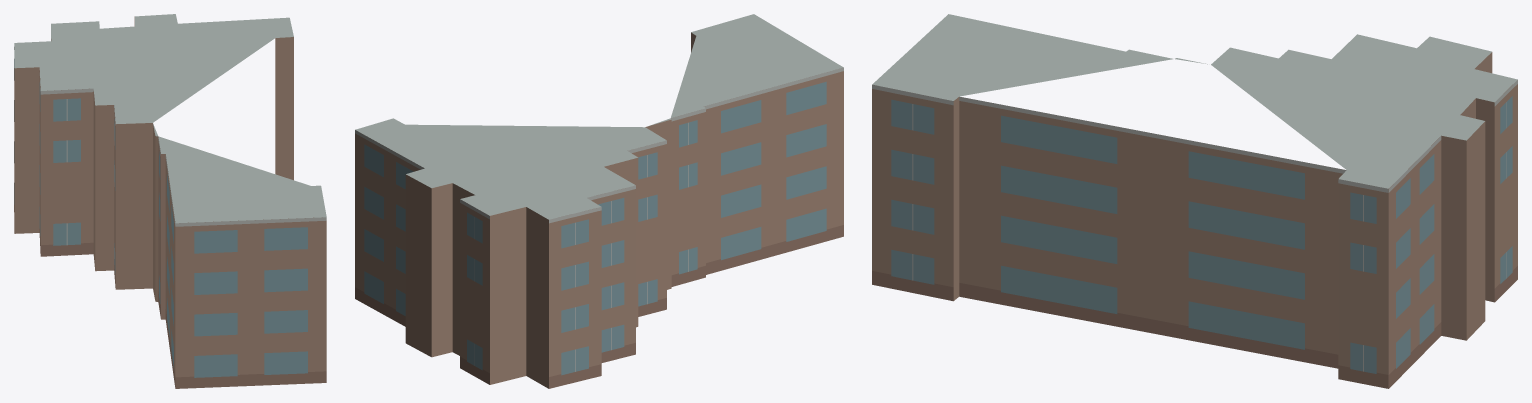
File: survey-upis-32655999.glb
The picture shows the model from 3 angles, left to right: view 1: azimuth 30°, elevation 25°; view 2: azimuth 150°, elevation 25°; view 3: azimuth 270°, elevation 25°; orthographic projection. The views are drawn at different scales.
Parts seen in each view (by area): view 1: survey-upis-32655999.tmp; view 2: survey-upis-32655999.tmp; view 3: survey-upis-32655999.tmp.
Boxes of the visible parts, bbox=[...] form: survey-upis-32655999.tmp: bbox=[14, 14, 326, 388]; survey-upis-32655999.tmp: bbox=[355, 14, 843, 388]; survey-upis-32655999.tmp: bbox=[872, 14, 1517, 388].
Bounding box in the file's own units: 21.55 × 11.5 × 33.65.
